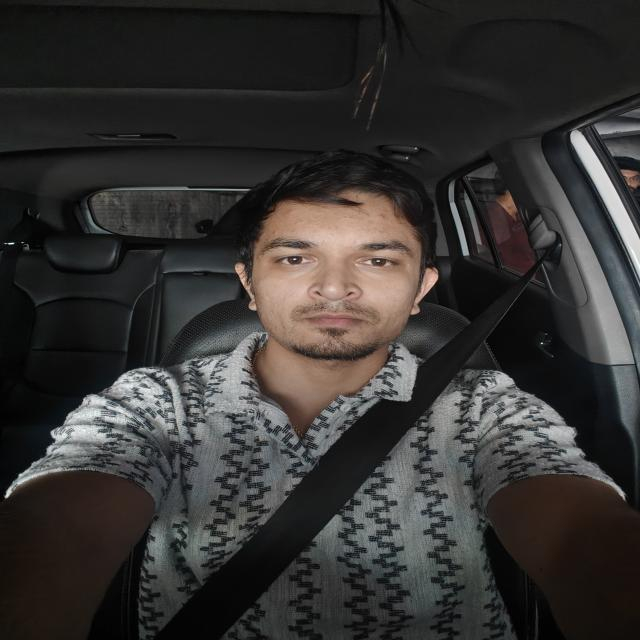seatbelt: (138, 224, 615, 636)
